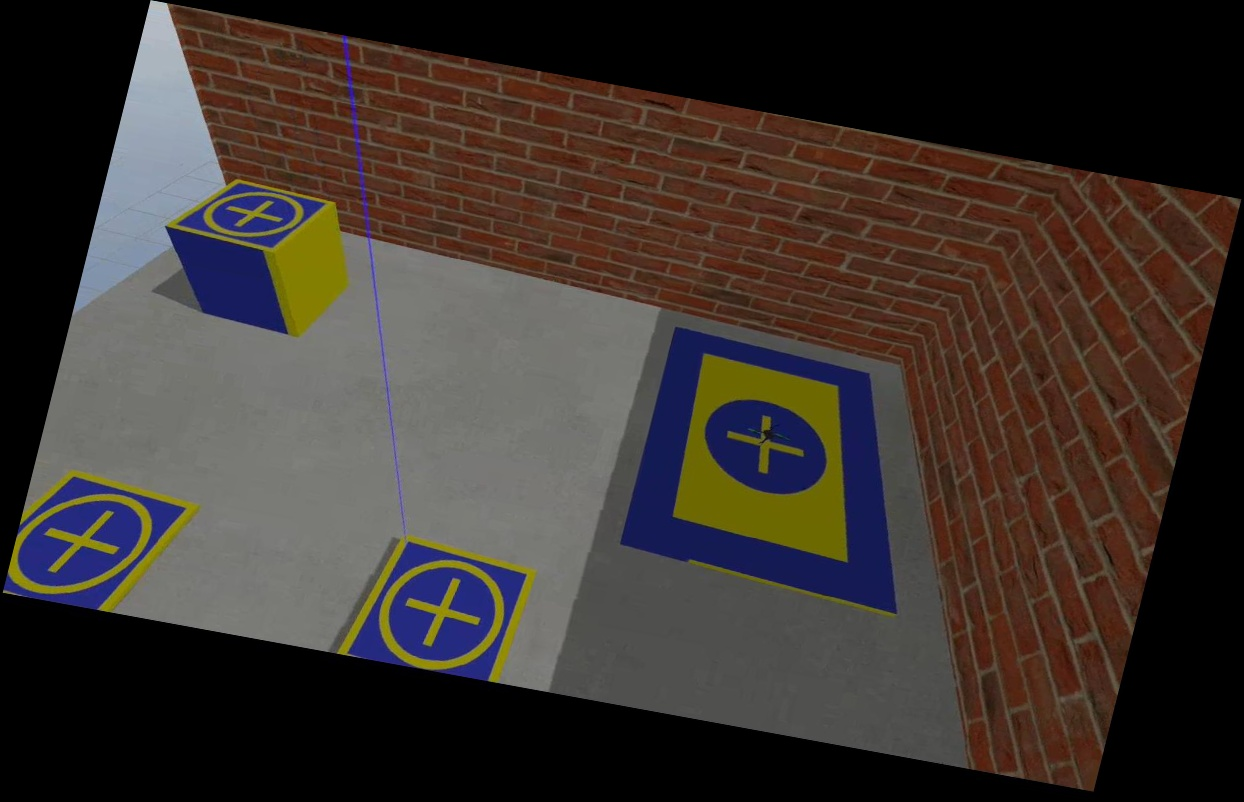large_base: (611, 322, 960, 620)
small_base: (332, 530, 539, 686), (3, 464, 197, 622), (165, 167, 339, 259)
